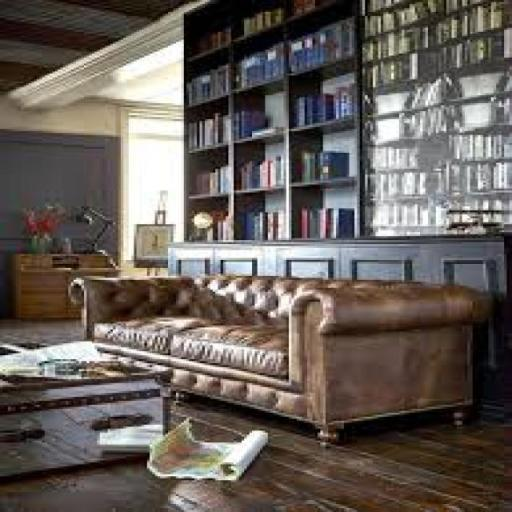sofa: (66, 235, 494, 473)
